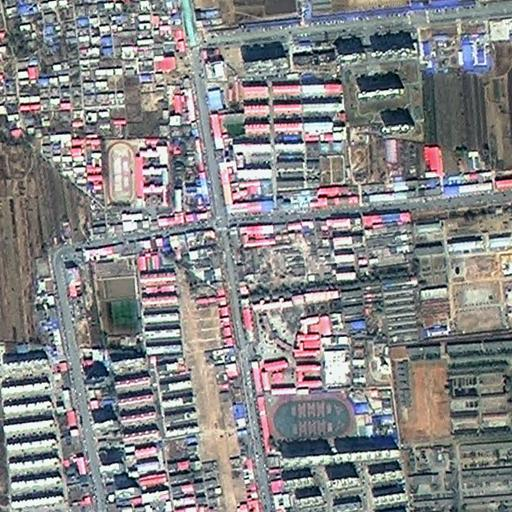school: (263, 352, 355, 441), (103, 136, 169, 210)
